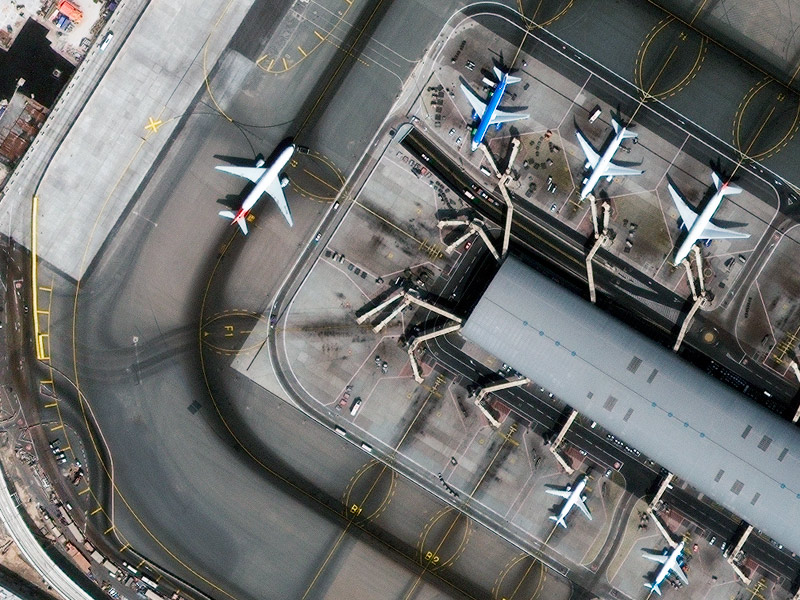aircraft: (213, 143, 302, 235), (667, 173, 751, 268), (571, 112, 648, 199), (458, 66, 532, 154), (644, 537, 693, 594), (544, 474, 593, 529)
